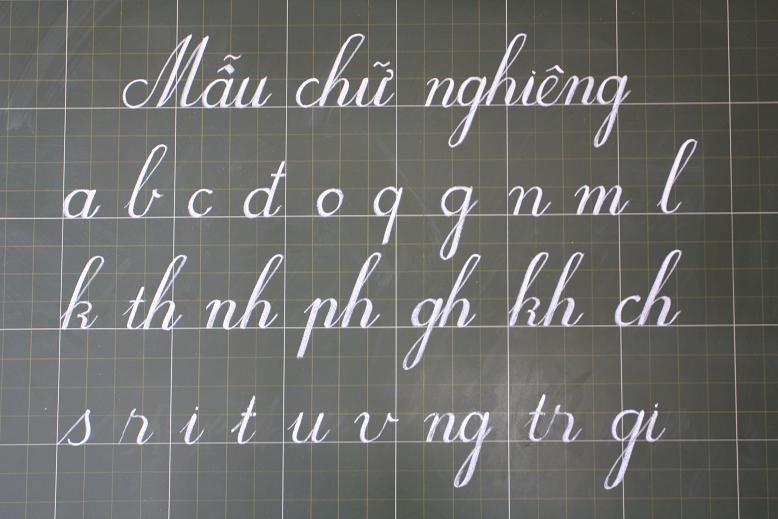text: (62, 135, 699, 263), (61, 247, 684, 375), (120, 31, 633, 153), (56, 393, 669, 492)
